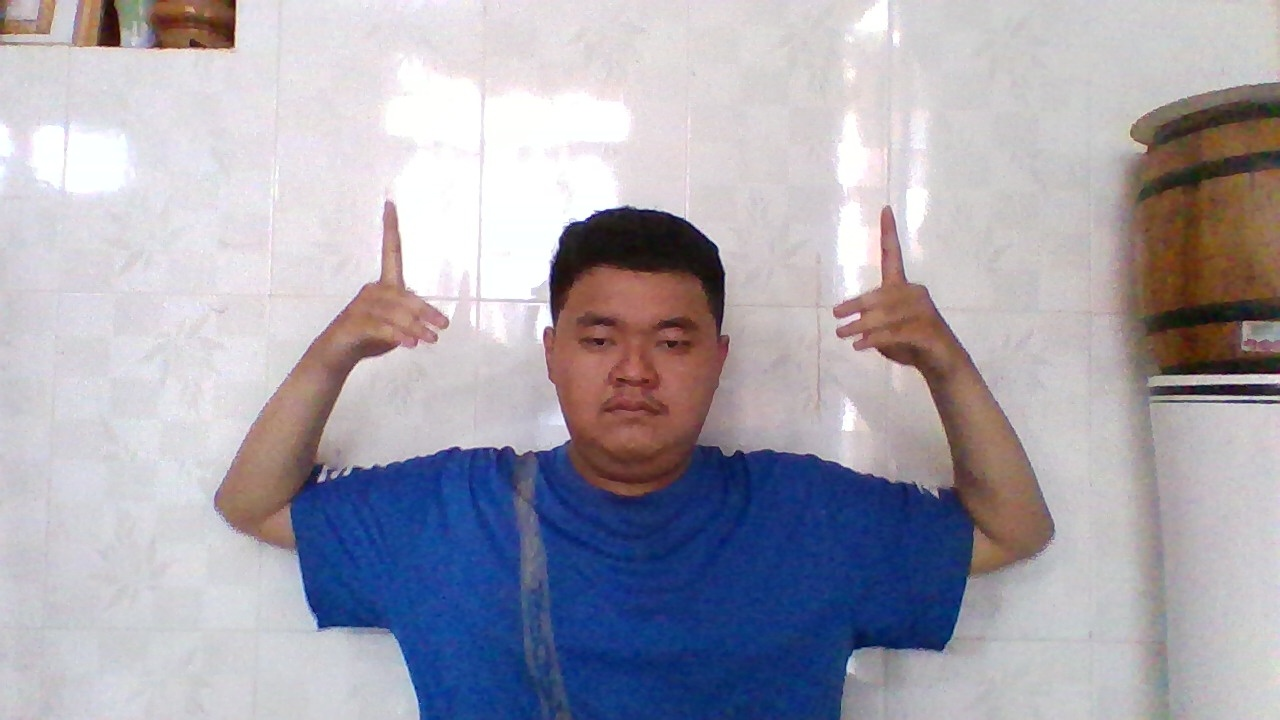D: (820, 195, 960, 388), (317, 190, 456, 382)
